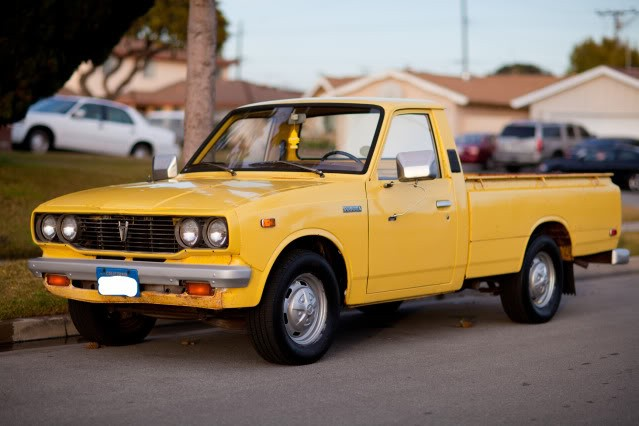pickup: (28, 93, 631, 363)
